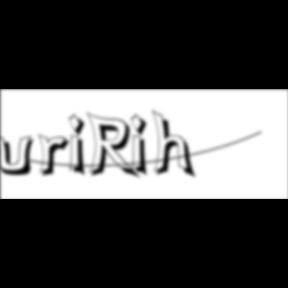R: (87, 112, 144, 182)
h: (153, 108, 200, 182)
i: (69, 112, 93, 180), (131, 112, 155, 180)
r: (38, 134, 76, 180)
u: (0, 132, 40, 178)
